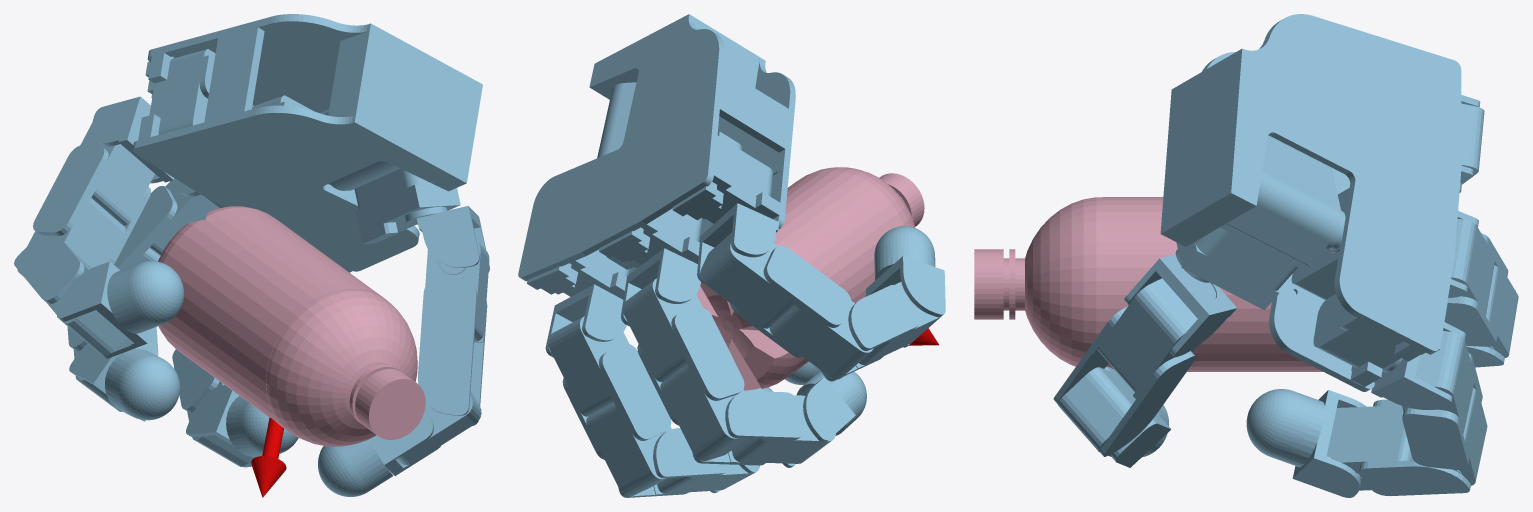
3 renders of one model, left to right at view 1: azimuth 30°, elevation 25°; view 2: azimuth 150°, elevation 25°; view 3: azimuth 270°, elevation 25°, orthographic. The views are drawn at different scales.
Parts seen in each view (by area): view 1: world, water_bottle.stl; view 2: world, water_bottle.stl; view 3: world, water_bottle.stl.
Boxes of the visible parts, <box> form: world: <box>14,14,489,497</box>; water_bottle.stl: <box>158,206,425,446</box>; world: <box>518,14,945,497</box>; water_bottle.stl: <box>696,167,924,390</box>; world: <box>1053,14,1518,497</box>; water_bottle.stl: <box>974,197,1323,371</box>.
Size of the model in its own units: 0.1723 by 0.1883 by 0.1871.
